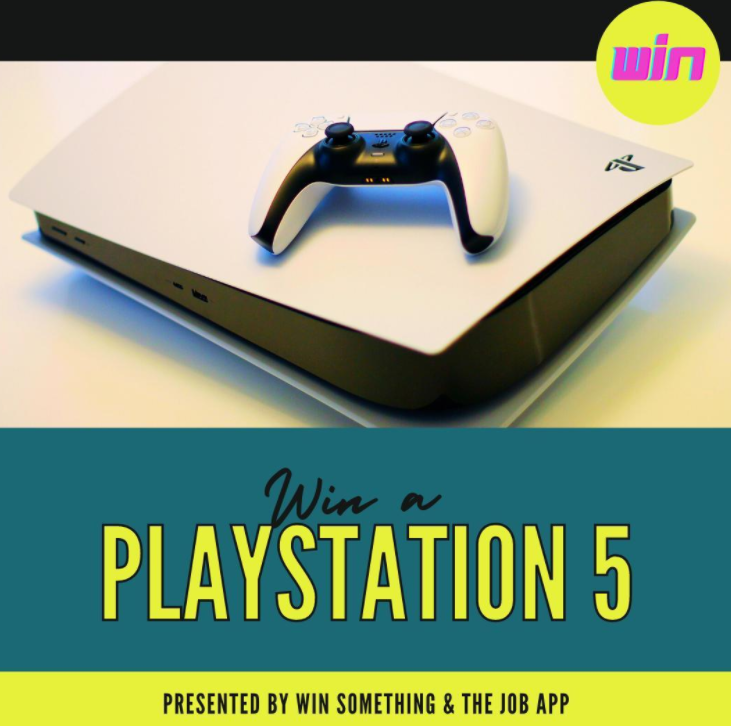gamingconsole: (249, 113, 509, 264)
